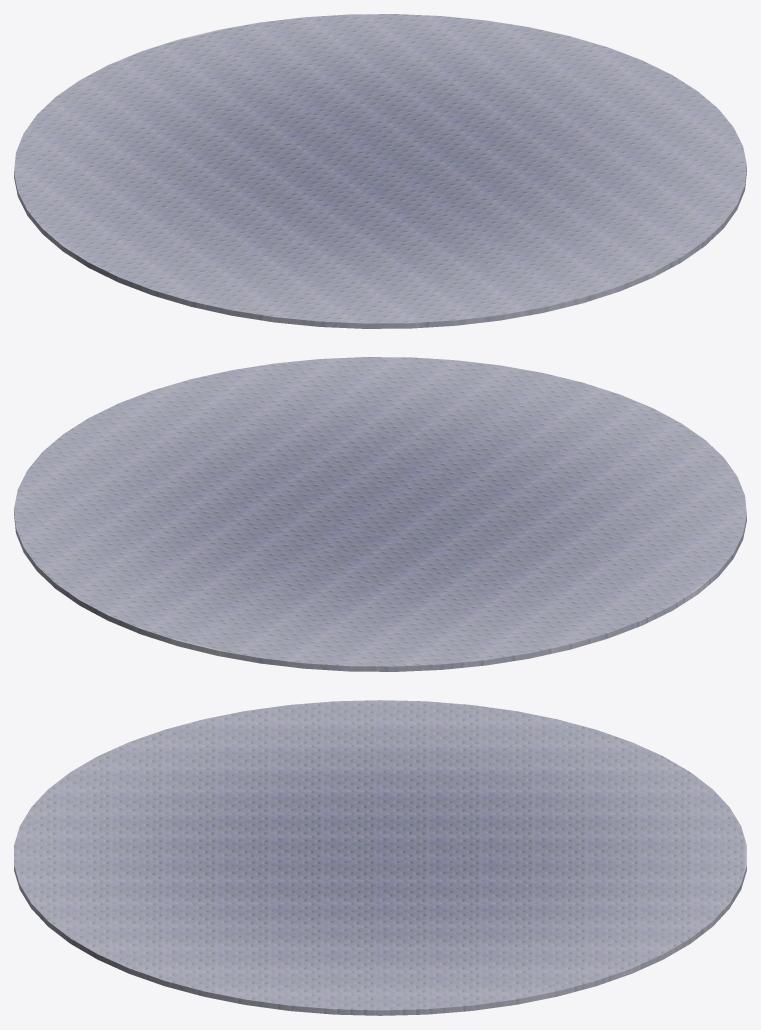
The model's file is chemical_ Filter paper.FBX.
The picture shows the model from 3 angles, top to bottom: view 1: azimuth 30°, elevation 25°; view 2: azimuth 150°, elevation 25°; view 3: azimuth 270°, elevation 25°; orthographic projection.
Visible parts, largest first — view 1: chemical_ Filter paper; view 2: chemical_ Filter paper; view 3: chemical_ Filter paper.
Boxes of the visible parts, <box> form: chemical_ Filter paper: <box>14,14,746,328</box>; chemical_ Filter paper: <box>14,357,746,671</box>; chemical_ Filter paper: <box>14,700,746,1015</box>.
Size of the model in its own units: 9.39 by 0.0761 by 9.37.
Materials: 1 (1 with a texture image).
